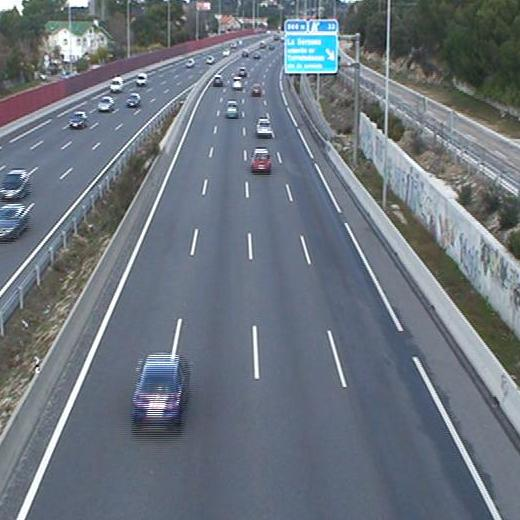car: (125, 350, 193, 436), (247, 145, 273, 177), (254, 113, 274, 140), (223, 100, 242, 122), (230, 74, 244, 93), (250, 82, 265, 99), (211, 74, 225, 90)
